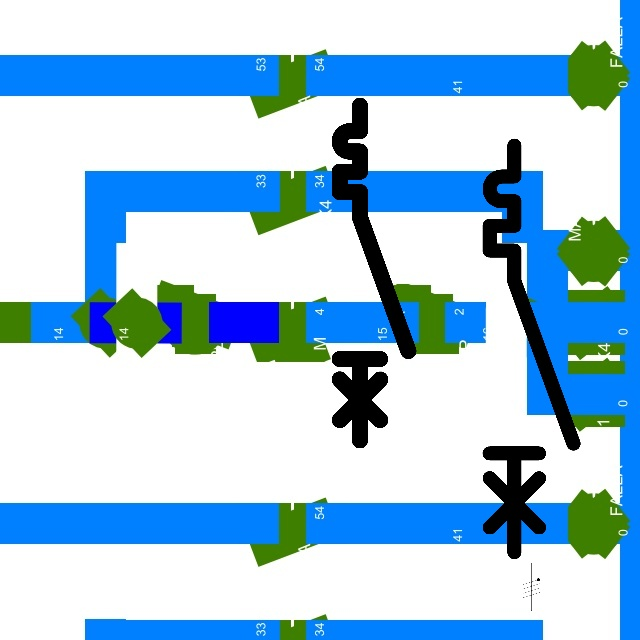interruptor_termomagnetico: (479, 135, 583, 562), (331, 97, 417, 449)
